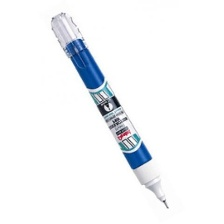correction_fluid: (49, 10, 171, 210)
